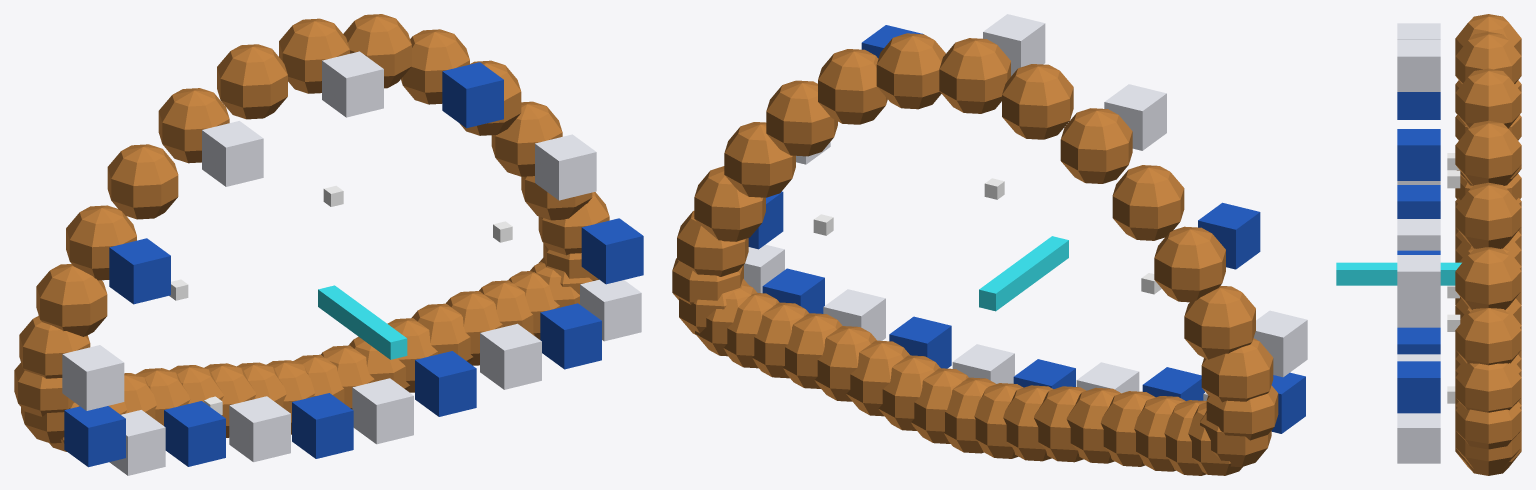
The model's file is bretzel_boomerang.glb.
The picture shows the model from 3 angles, left to right: view 1: azimuth 30°, elevation 25°; view 2: azimuth 150°, elevation 25°; view 3: azimuth 270°, elevation 25°; orthographic projection. The views are drawn at different scales.
Visible parts, largest first — view 1: p_sph.438, p_sph.440, p_sph.436, p_sph.439, p_sph.437, p_sph.407, p_box.1676, p_box.1687, p_box.1675, p_box.1688, p_box.1673, p_box.1674 (+37 smaller); view 2: p_sph.439, p_sph.438, p_sph.440, p_sph.437, p_sph.407, p_sph.408, p_sph.409, p_sph.436, p_sph.410, p_sph.411, p_sph.412, p_sph.435 (+38 smaller); view 3: p_sph.410, p_sph.409, p_sph.411, p_sph.412, p_sph.408, p_sph.413, p_sph.407, p_box.1676, p_sph.414, p_box.1673, p_box.1674, p_box.1675 (+20 smaller).
Part boxes in pixels (x1,y1,x2,y2): p_sph.438: (107,144,178,219); p_sph.440: (217,44,287,119); p_sph.436: (36,264,107,336); p_sph.439: (158,88,229,163); p_sph.437: (66,205,136,280); p_sph.407: (279,18,349,93); p_box.1676: (581,218,643,284); p_box.1687: (62,345,124,410); p_box.1675: (535,134,596,200); p_box.1688: (109,238,170,304); p_box.1673: (322,51,383,117); p_box.1674: (442,62,503,128); p_sph.439: (1060,108,1132,183); p_sph.438: (1112,165,1184,240); p_sph.440: (1002,64,1073,139); p_sph.437: (1154,226,1225,302); p_sph.407: (939,38,1010,113); p_sph.408: (876,33,945,109); p_sph.409: (818,49,887,124); p_sph.436: (1184,285,1255,359); p_sph.410: (766,80,837,156); p_sph.411: (724,122,795,197); p_sph.412: (694,166,765,241); p_sph.435: (1201,338,1273,402); p_sph.410: (1455,182,1521,248); p_sph.409: (1455,120,1521,185); p_sph.411: (1455,247,1521,309); p_sph.412: (1455,308,1521,365); p_sph.408: (1455,68,1521,128); p_sph.413: (1455,363,1521,412); p_sph.407: (1455,32,1521,83); p_box.1676: (1397,361,1440,413); p_sph.414: (1455,404,1521,449); p_box.1673: (1397,40,1440,91); p_box.1674: (1397,129,1440,180); p_box.1675: (1397,255,1440,306).
Size of the model in its own units: 1.42 by 0.928 by 0.4261.
